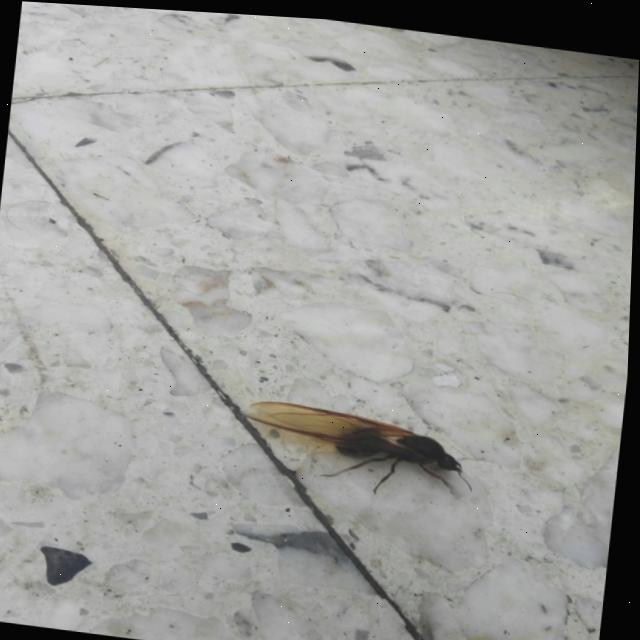Alive-Female-Alate: (241, 393, 491, 501)
